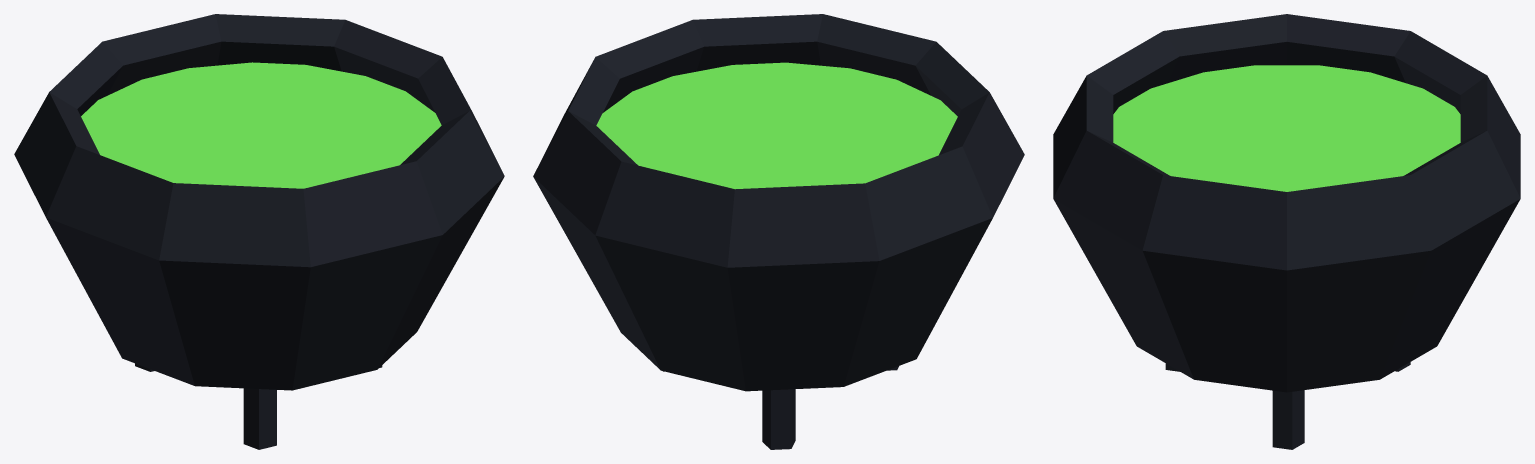
File: cauldron.glb
3 views of the same model, side by side, from view 1: azimuth 30°, elevation 25°; view 2: azimuth 150°, elevation 25°; view 3: azimuth 270°, elevation 25° (orthographic).
Visible parts, largest first — view 1: cauldron; view 2: cauldron; view 3: cauldron.
Boxes of the visible parts, x1,y1,x2,y2 form: cauldron: (14, 14, 504, 449); cauldron: (533, 14, 1024, 449); cauldron: (1053, 14, 1520, 449).
Bounding box in the file's own units: 1.4 × 0.905 × 1.33.
